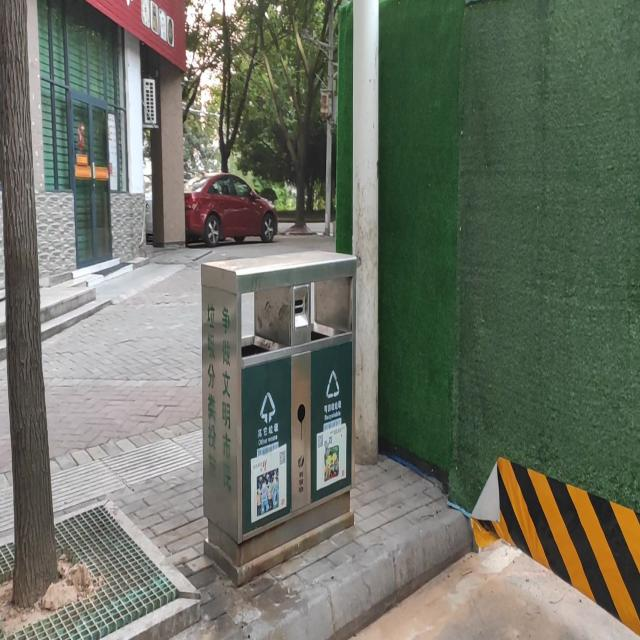ash bin: (198, 242, 359, 585)
car: (184, 170, 278, 240)
pole: (2, 1, 65, 608), (347, 1, 382, 458), (325, 11, 334, 231)
